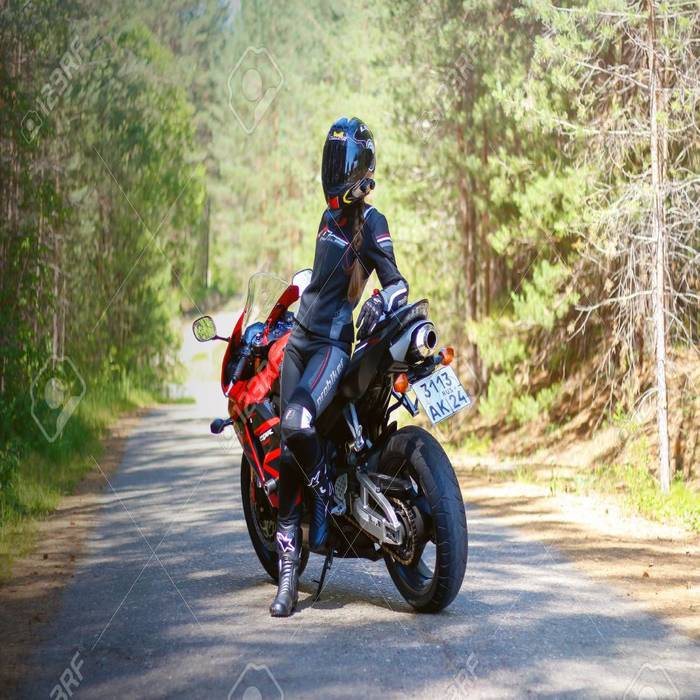h: (320, 111, 379, 223)
